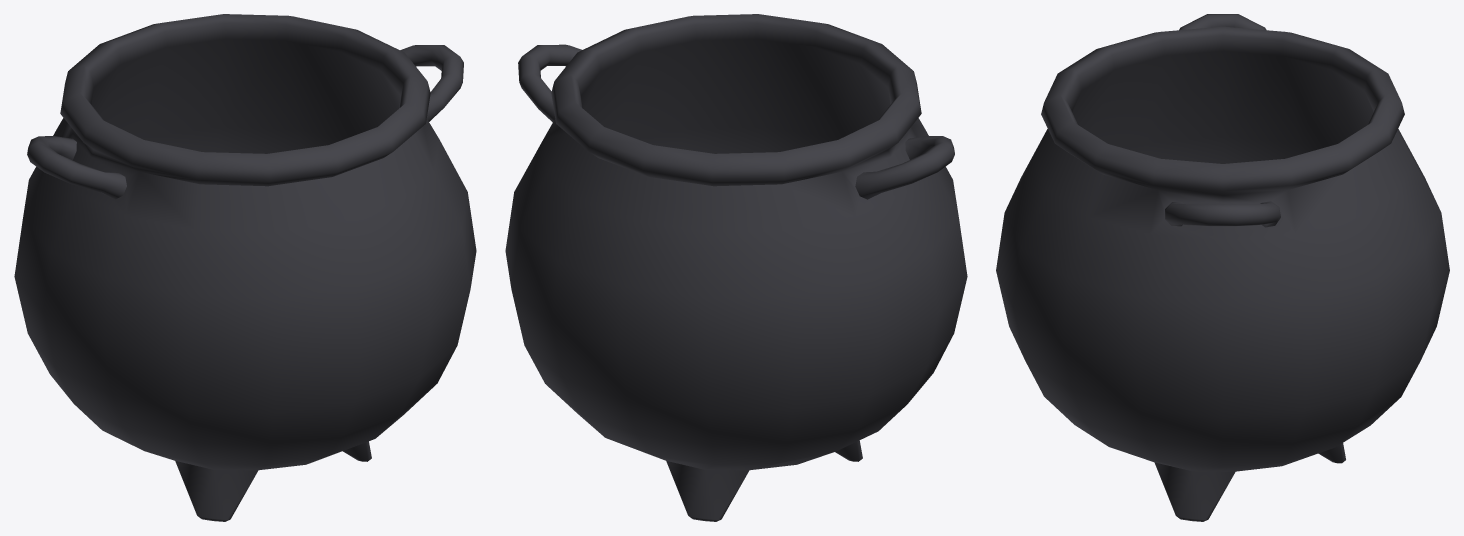
File: Cauldron_1.fbx
The picture shows the model from 3 angles, left to right: view 1: azimuth 30°, elevation 25°; view 2: azimuth 150°, elevation 25°; view 3: azimuth 270°, elevation 25°; orthographic projection. The views are drawn at different scales.
Parts seen in each view (by area): view 1: Cauldron_1; view 2: Cauldron_1; view 3: Cauldron_1.
Part boxes in pixels (x1,y1,x2,y2): Cauldron_1: (14,14,476,521); Cauldron_1: (505,14,967,521); Cauldron_1: (996,14,1449,521).
Size of the model in its own units: 23.52 by 20.62 by 22.54.
